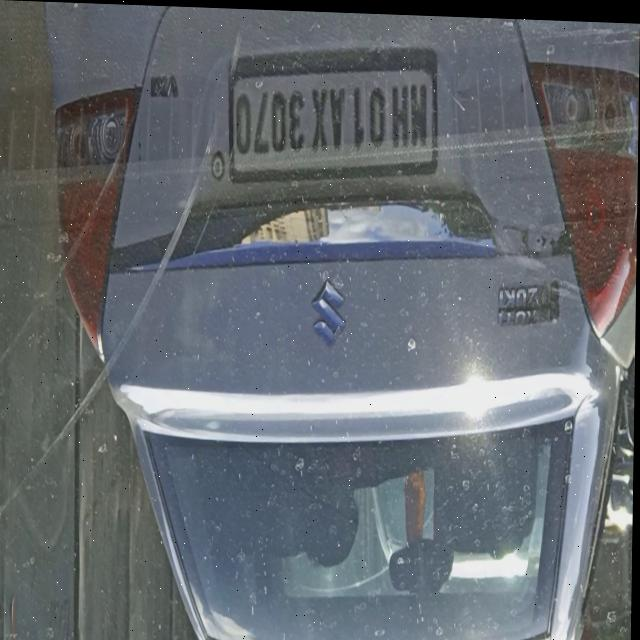plate: (226, 44, 438, 190)
